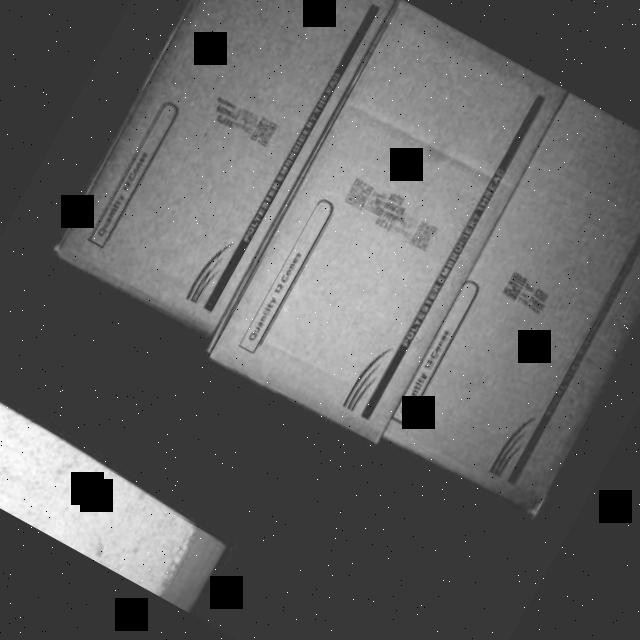box: (212, 2, 574, 444), (54, 0, 401, 336), (394, 104, 640, 517)
